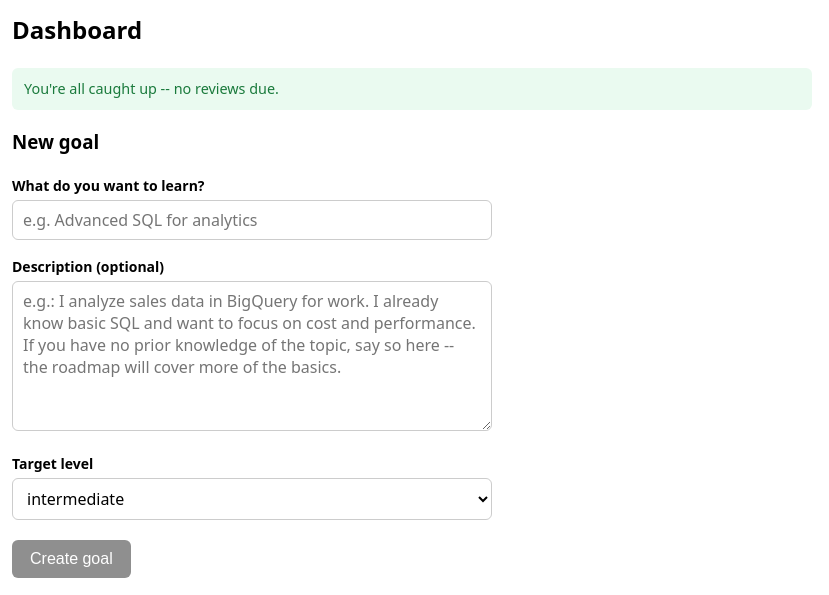
Dashboard › creates a goal and refreshes the list
The image size is (829, 595).
Type "Learn SQL" into the field labelled "What do you want to learn?". click: [252, 220]
box: top-left (12, 200), bottom-right (492, 240)
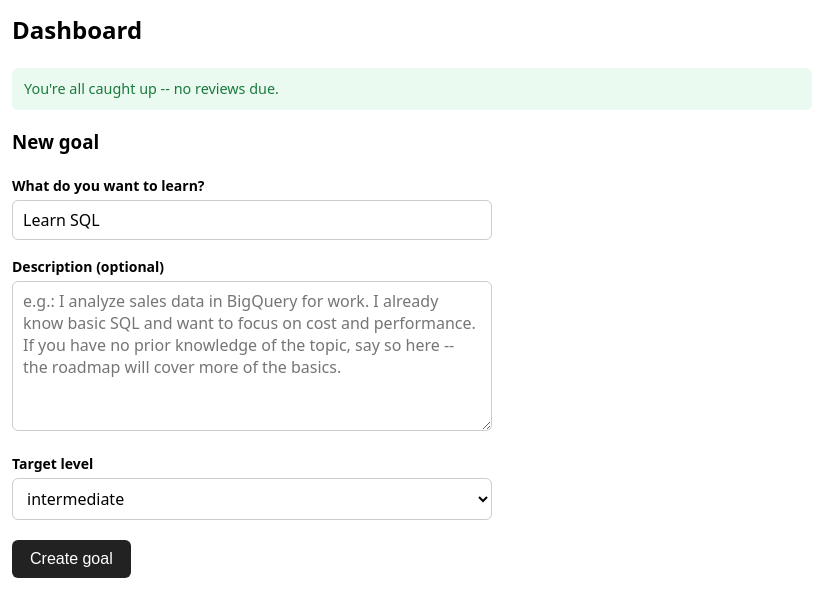
Click the button "Create goal". click: [71, 559]
box: top-left (12, 540), bottom-right (131, 578)
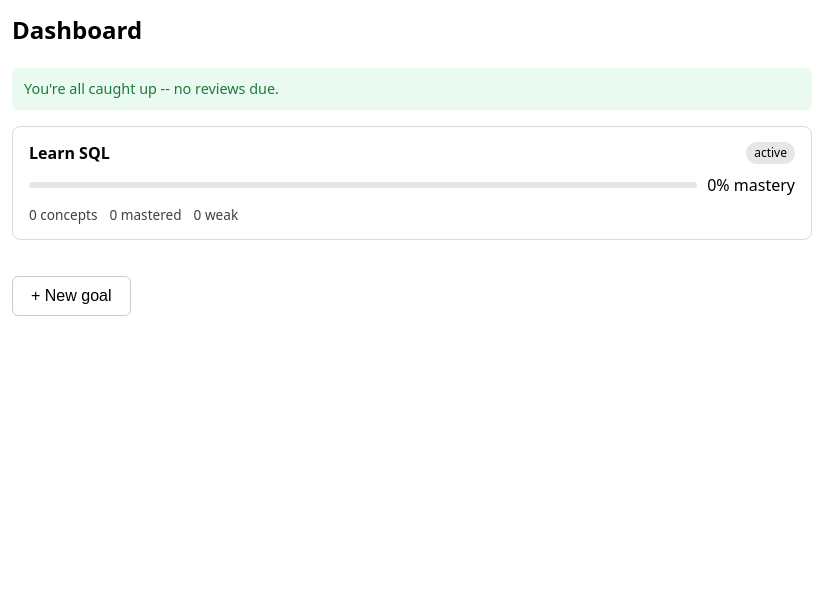
Expected: the text "Learn SQL" is shown, top-left (29, 140), bottom-right (110, 164)
